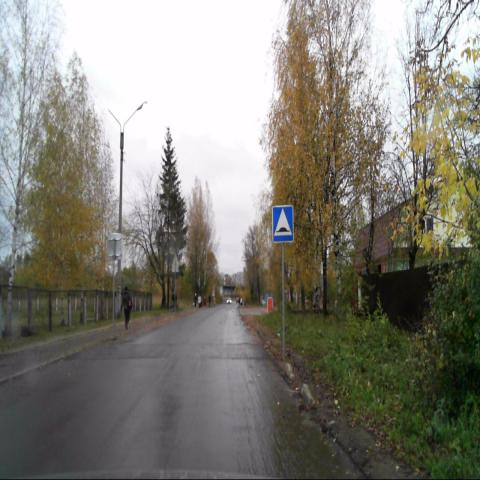5_20: (271, 205, 294, 242)
